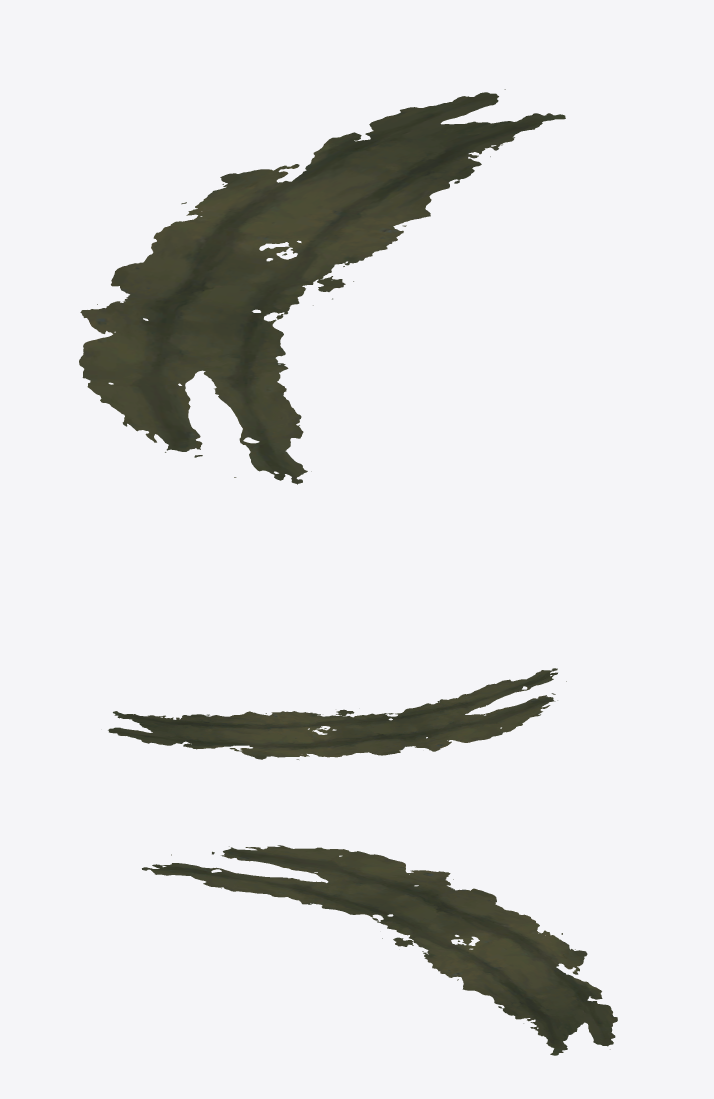
The model's file is road_curve_rock1b.fbx.
3 views of the same model, one above another, from view 1: azimuth 30°, elevation 25°; view 2: azimuth 150°, elevation 25°; view 3: azimuth 270°, elevation 25° (orthographic). The views are drawn at different scales.
Parts seen in each view (by area): view 1: obj0.055; view 2: obj0.055; view 3: obj0.055.
Part boxes in pixels (x1,y1,x2,y2): obj0.055: (79,89,565,484); obj0.055: (108,668,566,759); obj0.055: (142,845,617,1055).
Bounding box in the file's own units: 19.06 × 2.61e-06 × 19.7.
